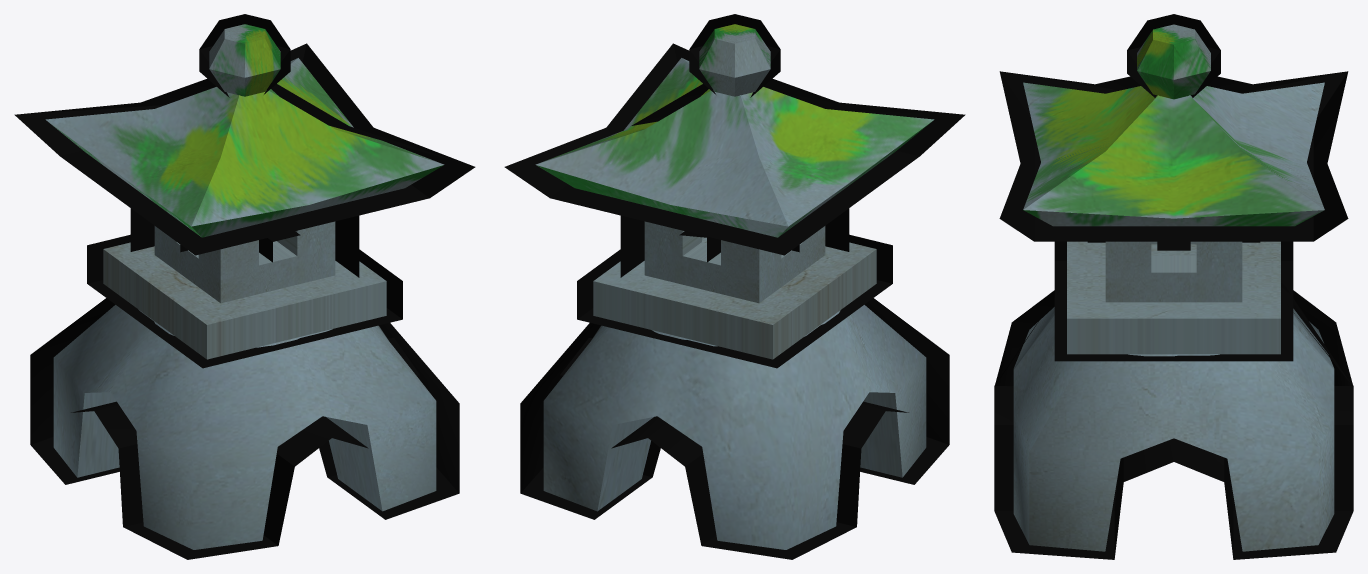
The model's file is lanternModel.fbx.
3 views of the same model, side by side, from view 1: azimuth 30°, elevation 25°; view 2: azimuth 150°, elevation 25°; view 3: azimuth 270°, elevation 25° (orthographic). The views are drawn at different scales.
Visible parts, largest first — view 1: lantern, shadow; view 2: lantern, shadow; view 3: lantern, shadow.
Boxes of the visible parts, left/top/right/bottom form: lantern: left=45, top=24, right=444, bottom=549; shadow: left=14, top=14, right=475, bottom=559; lantern: left=535, top=24, right=934, bottom=549; shadow: left=504, top=14, right=965, bottom=559; lantern: left=1013, top=24, right=1334, bottom=551; shadow: left=994, top=14, right=1353, bottom=559.
Bounding box in the file's own units: 207 × 291 × 207.
